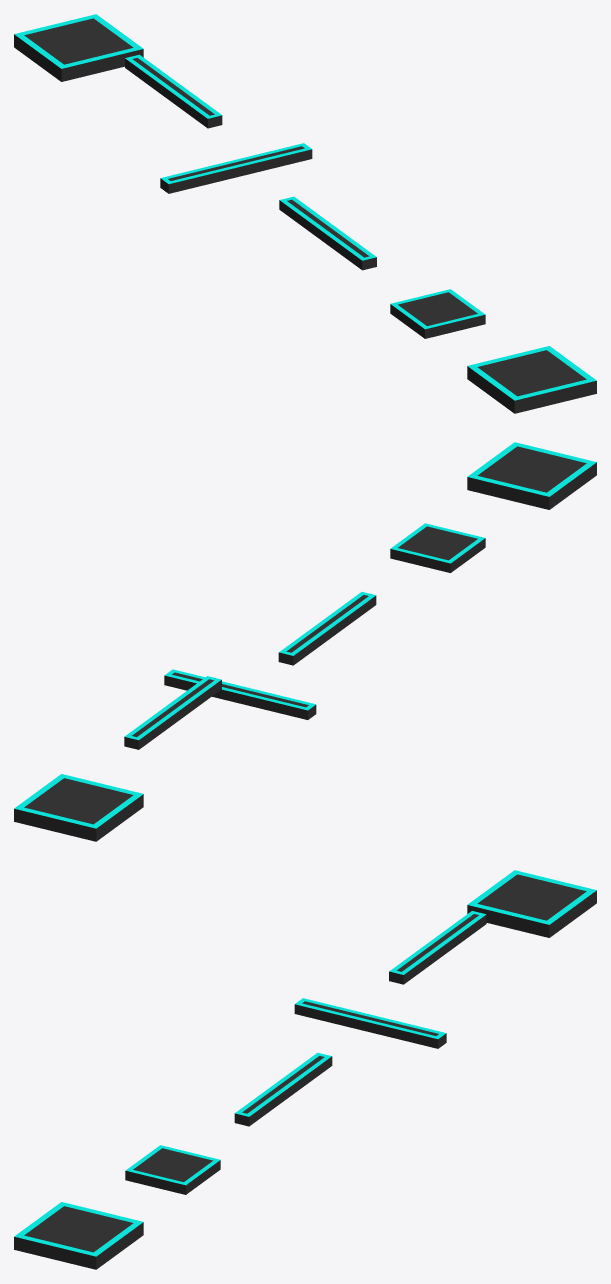
The model's file is Level2.fbx.
The picture shows the model from 3 angles, top to bottom: view 1: azimuth 30°, elevation 25°; view 2: azimuth 150°, elevation 25°; view 3: azimuth 330°, elevation 25°; orthographic projection.
Parts seen in each view (by area): view 1: Start, Ziel, Start.001, Start.003, Start.004, Start.002; view 2: Start, Ziel, Start.001, Start.003, Start.002, Start.004; view 3: Start, Ziel, Start.001, Start.003, Start.002, Start.004.
Part boxes in pixels (x1,y1,x2,y2): Start: (467, 346, 596, 413); Ziel: (14, 14, 143, 81); Start.001: (390, 289, 485, 338); Start.003: (160, 143, 312, 193); Start.004: (125, 54, 222, 128); Start.002: (279, 196, 376, 270); Start: (467, 442, 596, 509); Ziel: (14, 774, 143, 841); Start.001: (390, 523, 485, 572); Start.003: (164, 669, 316, 719); Start.002: (278, 592, 376, 665); Start.004: (124, 676, 221, 749); Start: (14, 1202, 143, 1269); Ziel: (467, 870, 596, 937); Start.001: (125, 1145, 220, 1194); Start.003: (294, 998, 446, 1048); Start.002: (234, 1052, 332, 1126); Start.004: (389, 911, 486, 984).
Size of the model in its own units: 106 by 27.22 by 643.
